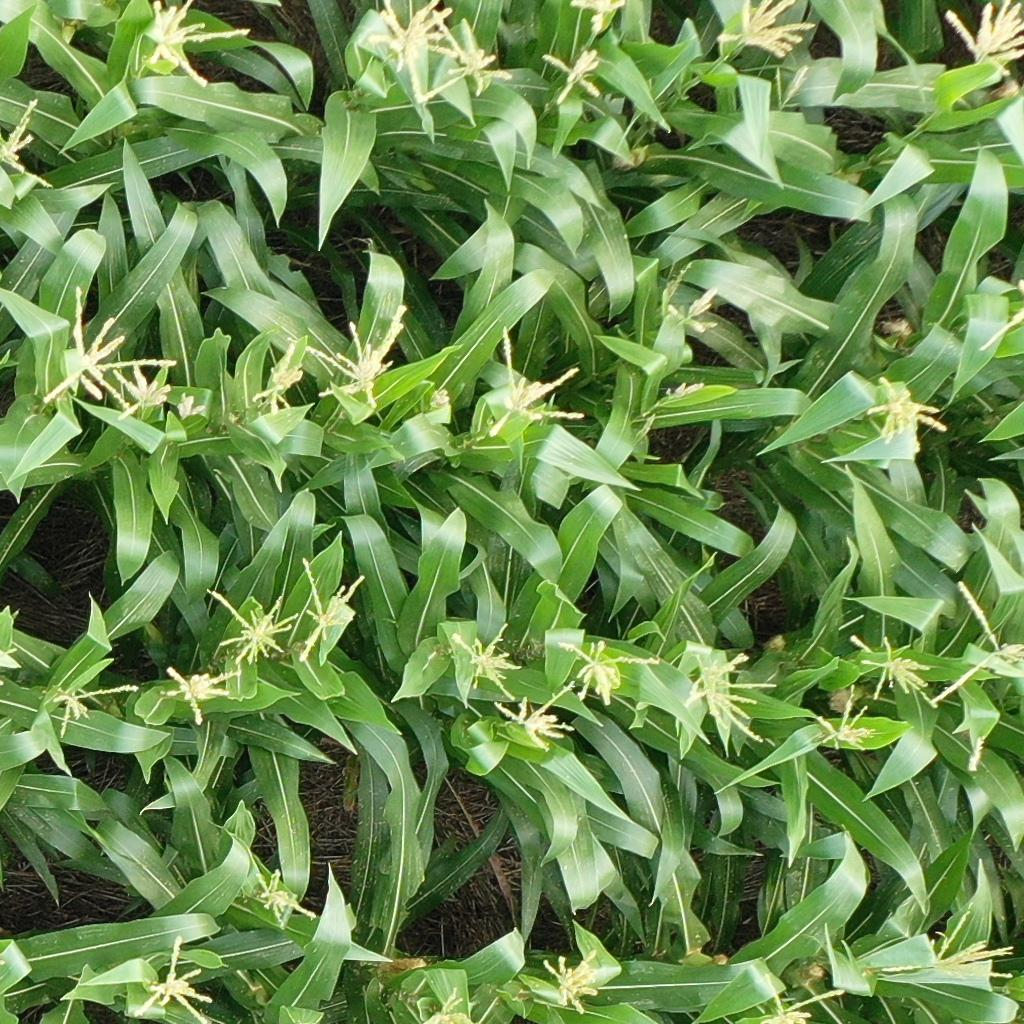Tassel: (44, 284, 177, 406), (931, 579, 1023, 716), (883, 905, 1015, 998), (487, 324, 587, 439), (304, 303, 411, 409), (682, 651, 781, 749), (141, 1, 253, 86), (363, 1, 452, 104), (416, 8, 511, 102), (131, 929, 219, 1024), (294, 556, 368, 663), (557, 633, 661, 709), (206, 586, 299, 666), (939, 1, 1024, 80), (850, 630, 936, 708), (448, 618, 525, 703), (492, 679, 582, 748), (864, 375, 951, 446), (714, 1, 817, 58), (52, 679, 140, 739), (158, 666, 244, 727), (1, 97, 55, 191), (246, 336, 305, 421), (756, 969, 847, 1024), (252, 866, 317, 933), (539, 948, 605, 1013), (815, 693, 881, 751), (540, 50, 607, 105), (111, 361, 171, 421), (977, 278, 1024, 354), (666, 290, 724, 338), (421, 985, 477, 1024), (771, 62, 810, 112), (570, 1, 628, 34), (648, 379, 709, 408), (175, 391, 206, 422), (426, 388, 453, 415)
